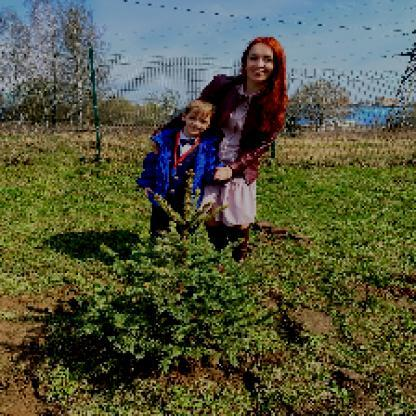child: (138, 100, 227, 241)
